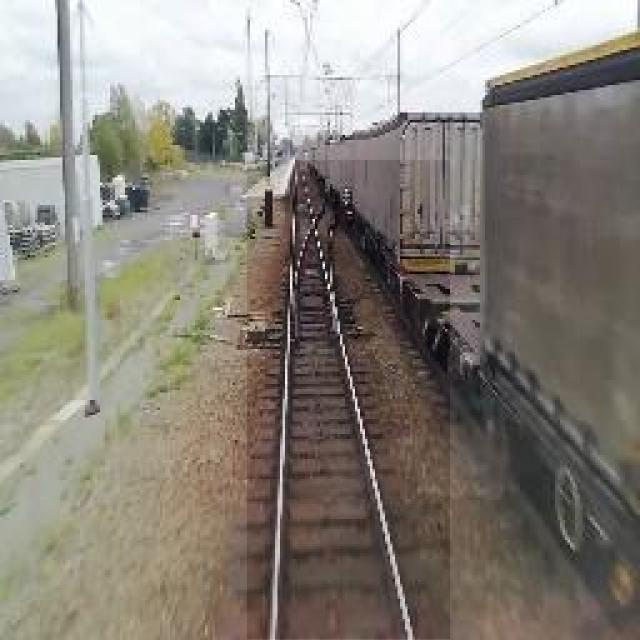rail: (248, 161, 451, 640)
